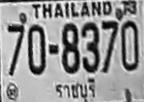0: (27, 24, 45, 74), (120, 20, 138, 70)
3: (81, 21, 99, 72)
7: (7, 24, 24, 74), (101, 20, 117, 72)
8: (61, 23, 79, 72)
RBR: (52, 77, 99, 102)
